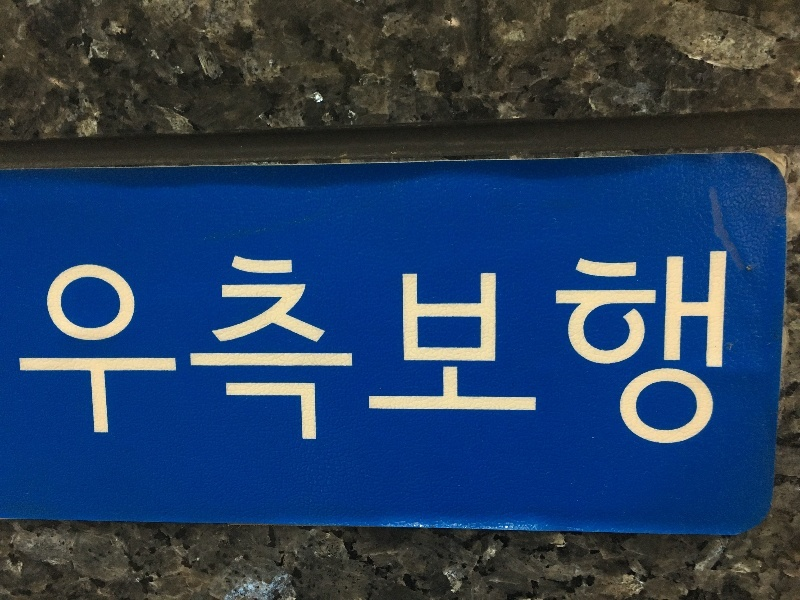text: (17, 246, 32, 450), (33, 246, 48, 450), (49, 246, 64, 450), (65, 246, 80, 450), (81, 246, 96, 450), (97, 246, 112, 450), (113, 246, 128, 450), (129, 246, 144, 450), (145, 246, 160, 450), (161, 246, 176, 450), (177, 246, 192, 450), (193, 246, 208, 450), (209, 246, 224, 450), (225, 246, 240, 450), (241, 246, 256, 450), (257, 246, 272, 450), (273, 246, 288, 450), (289, 246, 304, 450), (305, 246, 320, 450), (321, 246, 336, 450), (337, 246, 352, 450), (353, 246, 368, 450), (369, 246, 384, 450), (385, 246, 400, 450), (401, 246, 416, 450), (417, 246, 432, 450), (433, 246, 448, 450), (449, 246, 464, 450), (465, 246, 480, 450), (481, 246, 496, 450), (497, 246, 512, 450), (513, 246, 528, 450), (529, 246, 544, 450), (545, 246, 560, 450), (561, 246, 576, 450), (577, 246, 592, 450), (593, 246, 608, 450), (609, 246, 624, 450), (625, 246, 640, 450), (641, 246, 656, 450), (657, 246, 672, 450), (673, 246, 688, 450), (689, 246, 704, 450), (705, 246, 720, 450), (721, 246, 733, 450), (12, 246, 16, 450)
